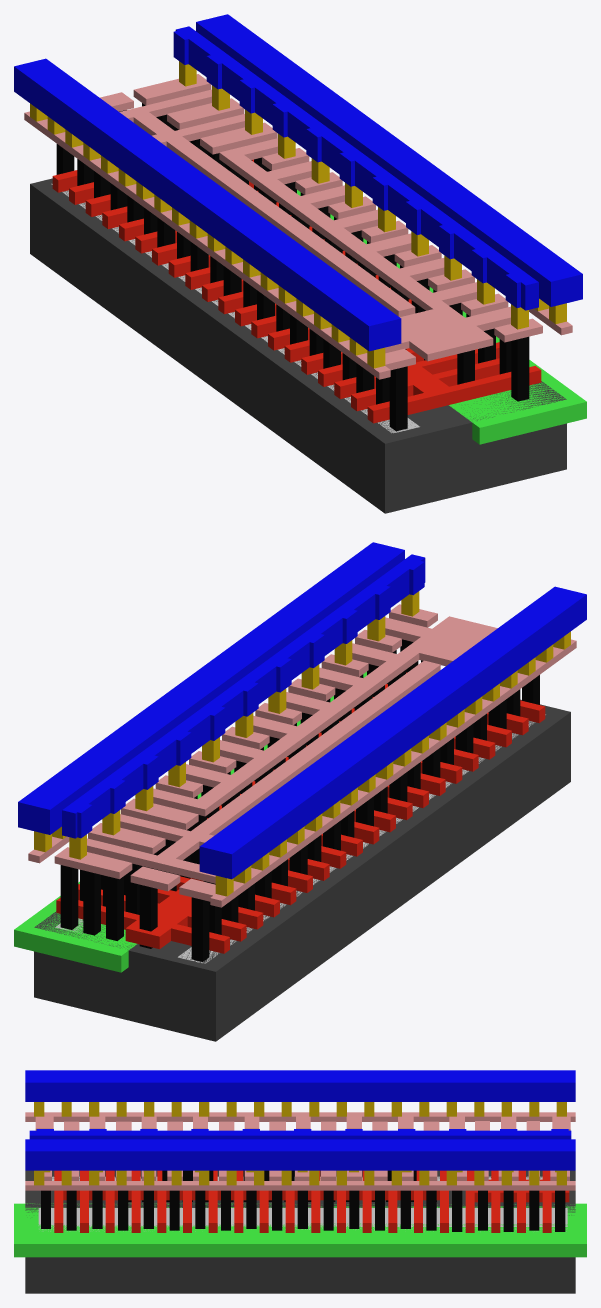
File: sky130_fd_sc_hd__lpflow_clkbufkapwr_16.obj
3 renders of one model, top to bottom at view 1: azimuth 30°, elevation 25°; view 2: azimuth 150°, elevation 25°; view 3: azimuth 270°, elevation 25°, orthographic. The views are drawn at different scales.
Visible parts, largest first — view 1: metal1, subs, li, poly, licon, mcon, nwell, diff; view 2: metal1, subs, li, licon, poly, mcon, nwell, diff; view 3: metal1, subs, nwell, li, poly, licon, mcon, tap.
Boxes of the visible parts, x1,y1,x2,y2 form: metal1: (14, 14, 582, 351); subs: (30, 178, 566, 513); li: (24, 74, 572, 379); poly: (52, 159, 541, 423); licon: (56, 103, 529, 431); mcon: (30, 61, 566, 368); nwell: (297, 190, 586, 444); diff: (51, 183, 419, 433); metal1: (18, 542, 586, 879); subs: (34, 699, 570, 1041); li: (28, 604, 576, 907); licon: (60, 639, 539, 961); poly: (56, 672, 545, 953); mcon: (34, 591, 570, 896); nwell: (14, 671, 366, 972); diff: (178, 714, 545, 963); metal1: (25, 1070, 575, 1170); subs: (25, 1170, 575, 1293); nwell: (14, 1203, 586, 1257); li: (25, 1112, 575, 1190); poly: (54, 1170, 569, 1232); licon: (41, 1170, 565, 1231); mcon: (34, 1102, 566, 1185); tap: (38, 1208, 567, 1231).
Size of the model in its own units: 3.2 by 2.74 by 9.58.
